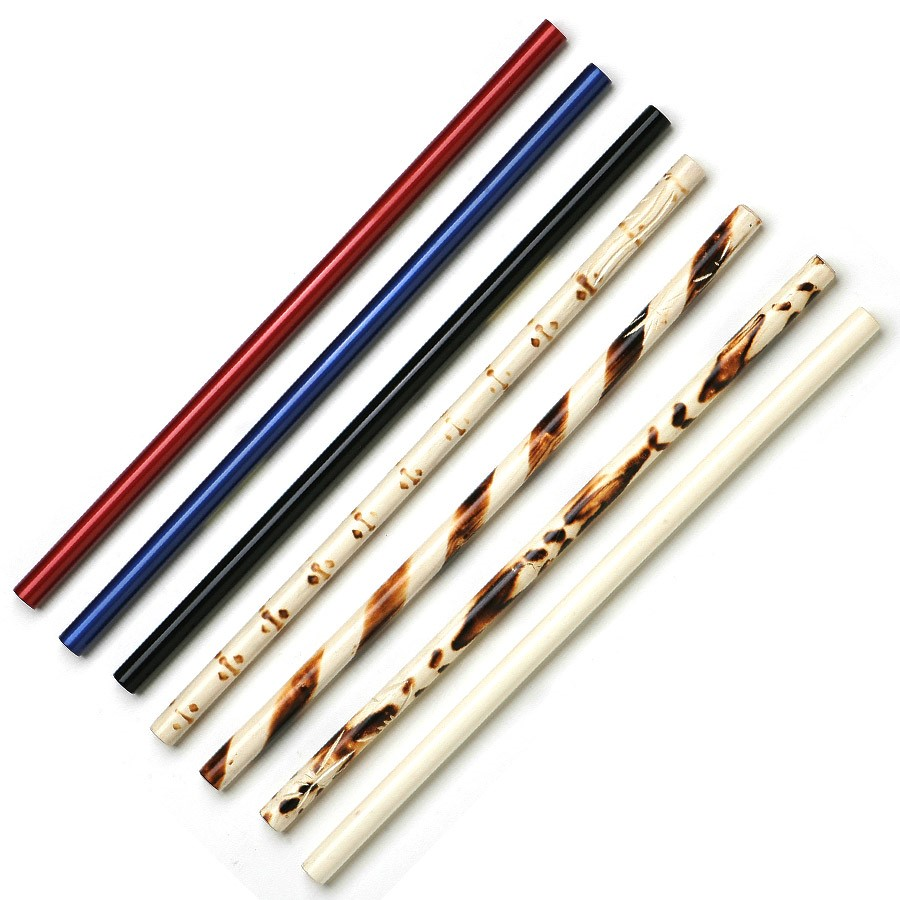baston_e: (328, 309, 858, 891), (285, 257, 813, 834), (135, 105, 644, 694), (82, 67, 588, 655), (177, 158, 679, 746), (222, 208, 733, 785), (34, 23, 536, 607)
baston_v: (538, 10, 575, 50), (852, 299, 888, 338), (731, 196, 770, 231), (677, 146, 711, 185), (642, 99, 675, 136), (809, 246, 840, 284), (144, 720, 178, 754), (295, 855, 328, 890), (254, 805, 287, 838), (6, 582, 40, 614), (585, 56, 616, 88), (51, 631, 82, 663), (192, 766, 223, 797), (107, 670, 137, 702)
